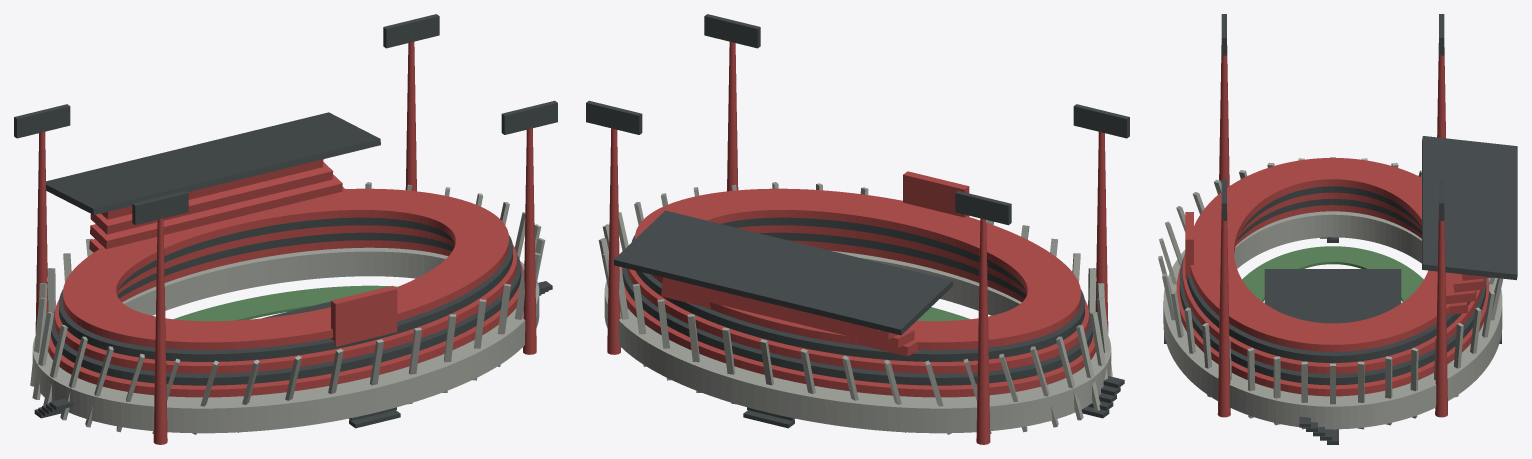
Rendered from former-national-stadium.glb.
The picture shows the model from 3 angles, left to right: view 1: azimuth 30°, elevation 25°; view 2: azimuth 150°, elevation 25°; view 3: azimuth 270°, elevation 25°; orthographic projection. The views are drawn at different scales.
Visible parts, largest first — view 1: elliptical-bowl/elliptical-ring (×5), concourse-ring/elliptical-ring, west-canopy/canopy, west-grandstand/west-tier-1, scoreboard/form, track-and-field/elliptical-ring, west-grandstand/west-tier-2, floodlight-pylons/pylon-2, floodlight-pylons/pylon-3, floodlight-pylons/pylon-0, west-grandstand/west-tier-3, floodlight-pylons/pylon-1 (+6 smaller); view 2: elliptical-bowl/elliptical-ring (×5), west-canopy/canopy, concourse-ring/elliptical-ring, floodlight-pylons/pylon-0, floodlight-pylons/pylon-1, scoreboard/form, west-grandstand/west-tier-1, floodlight-pylons/pylon-2, west-grandstand/west-tier-2, floodlight-pylons/pylon-3, floodlight-pylons/lamp-bank-2, floodlight-pylons/lamp-bank-3 (+6 smaller); view 3: elliptical-bowl/elliptical-ring (×5), concourse-ring/elliptical-ring, west-canopy/canopy, track-and-field/form, track-and-field/elliptical-ring, floodlight-pylons/pylon-3, floodlight-pylons/pylon-1, floodlight-pylons/pylon-2, floodlight-pylons/pylon-0, scoreboard/form, west-grandstand/west-tier-1, west-grandstand/west-tier-2.
Boxes of the visible parts, x1,y1,x2,y2 form: elliptical-bowl/elliptical-ring (×5): (48, 188, 522, 397); concourse-ring/elliptical-ring: (32, 247, 539, 433); west-canopy/canopy: (46, 112, 380, 214); west-grandstand/west-tier-1: (90, 174, 342, 248); scoreboard/form: (331, 285, 397, 346); track-and-field/elliptical-ring: (173, 285, 397, 321); west-grandstand/west-tier-2: (90, 162, 333, 234); floodlight-pylons/pylon-2: (153, 215, 167, 444); floodlight-pylons/pylon-3: (523, 126, 536, 354); floodlight-pylons/pylon-0: (35, 130, 48, 332); west-grandstand/west-tier-3: (101, 159, 323, 219); floodlight-pylons/pylon-1: (405, 37, 416, 191); elliptical-bowl/elliptical-ring (×5): (621, 188, 1095, 397); west-canopy/canopy: (613, 210, 952, 335); concourse-ring/elliptical-ring: (604, 250, 1111, 433); floodlight-pylons/pylon-0: (976, 215, 990, 444); floodlight-pylons/pylon-1: (607, 126, 620, 354); scoreboard/form: (903, 171, 969, 217); west-grandstand/west-tier-1: (662, 281, 914, 348); floodlight-pylons/pylon-2: (1095, 130, 1108, 332); west-grandstand/west-tier-2: (662, 277, 897, 339); floodlight-pylons/pylon-3: (727, 38, 738, 191); floodlight-pylons/lamp-bank-2: (1073, 104, 1129, 138); floodlight-pylons/lamp-bank-3: (704, 14, 760, 48); elliptical-bowl/elliptical-ring (×5): (1176, 158, 1489, 396); concourse-ring/elliptical-ring: (1163, 211, 1502, 429); west-canopy/canopy: (1422, 136, 1517, 280); track-and-field/form: (1264, 269, 1401, 323); track-and-field/elliptical-ring: (1242, 246, 1423, 301); floodlight-pylons/pylon-3: (1217, 210, 1230, 417); floodlight-pylons/pylon-1: (1435, 208, 1447, 417); floodlight-pylons/pylon-2: (1219, 45, 1229, 187); floodlight-pylons/pylon-0: (1437, 43, 1445, 138); scoreboard/form: (1185, 212, 1193, 278); west-grandstand/west-tier-1: (1445, 272, 1476, 304); west-grandstand/west-tier-2: (1453, 273, 1484, 292).
Size of the model in its own units: 24.2 by 11.44 by 16.54.
